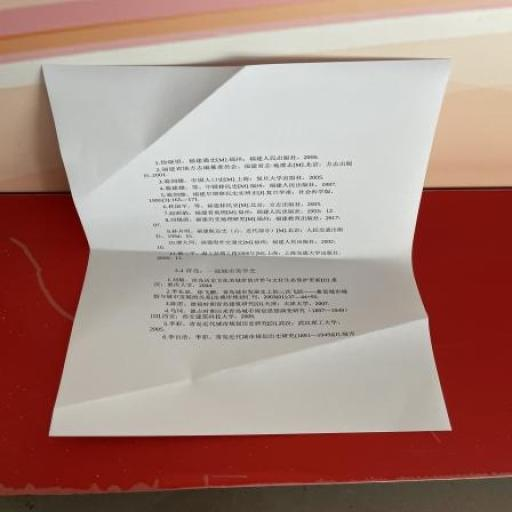paper: (16, 31, 440, 442)
